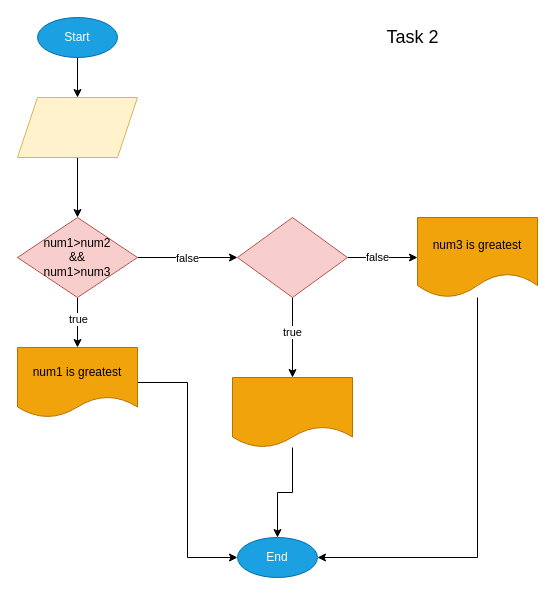
Some shapes in this 555 by 595 pixel diagram are drawn without their labels. Here are the shapes that lost their labels. From the top down, the centre of each, then its label:
At point (77, 127): "num1,num2,num3".
At point (292, 257): "num2>num3".
At point (292, 412): "num2 is greatest".
